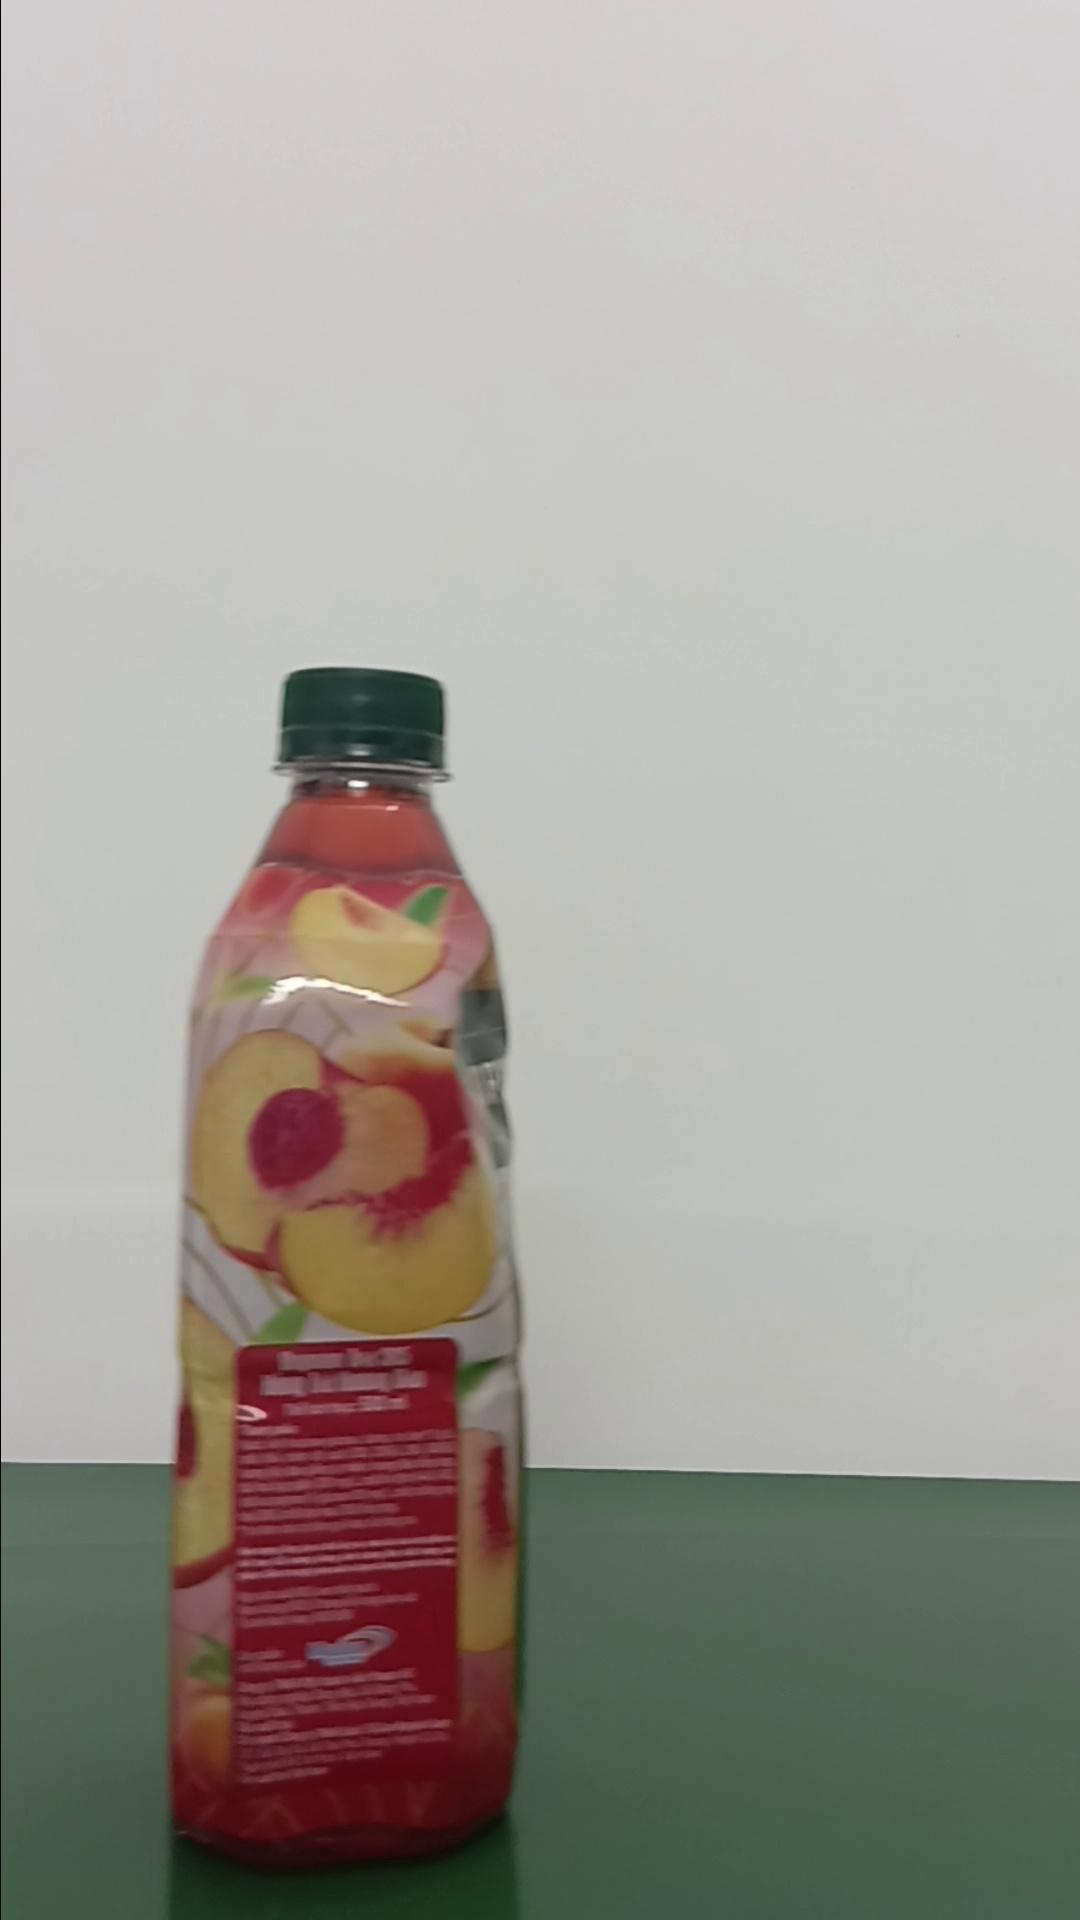loi meo sp: (165, 663, 529, 1869)
